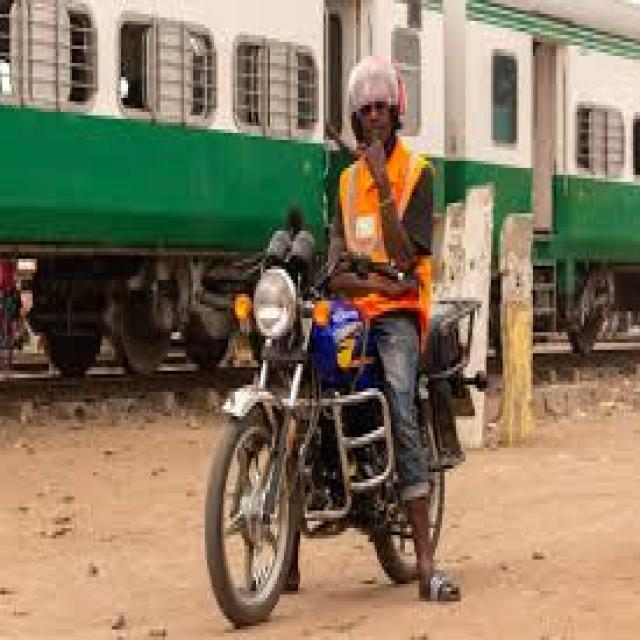bodaboda: (153, 146, 530, 640)
